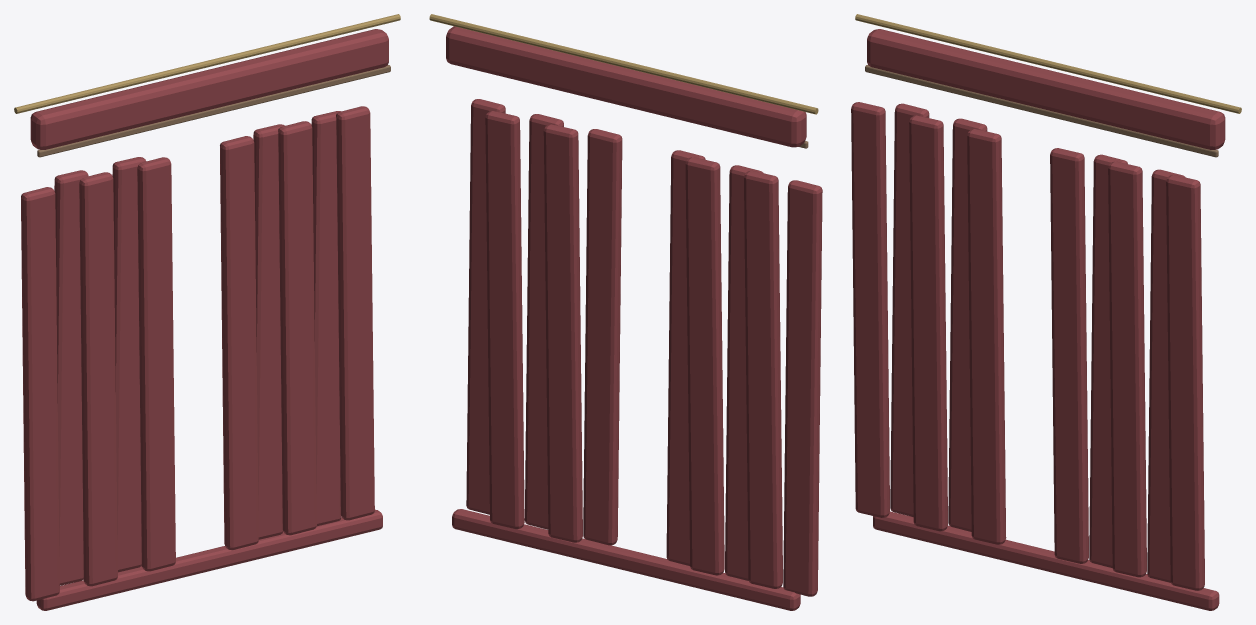
3 renders of one model, left to right at view 1: azimuth 30°, elevation 25°; view 2: azimuth 150°, elevation 25°; view 3: azimuth 330°, elevation 25°, orthographic.
Parts seen in each view (by area): view 1: curtainLong; view 2: curtainLong; view 3: curtainLong.
Part boxes in pixels (left/top/right/bottom): curtainLong: left=14, top=14, right=400, bottom=610; curtainLong: left=429, top=14, right=822, bottom=610; curtainLong: left=851, top=14, right=1241, bottom=610.
Size of the model in its own units: 1.85 by 2.33 by 0.105.
